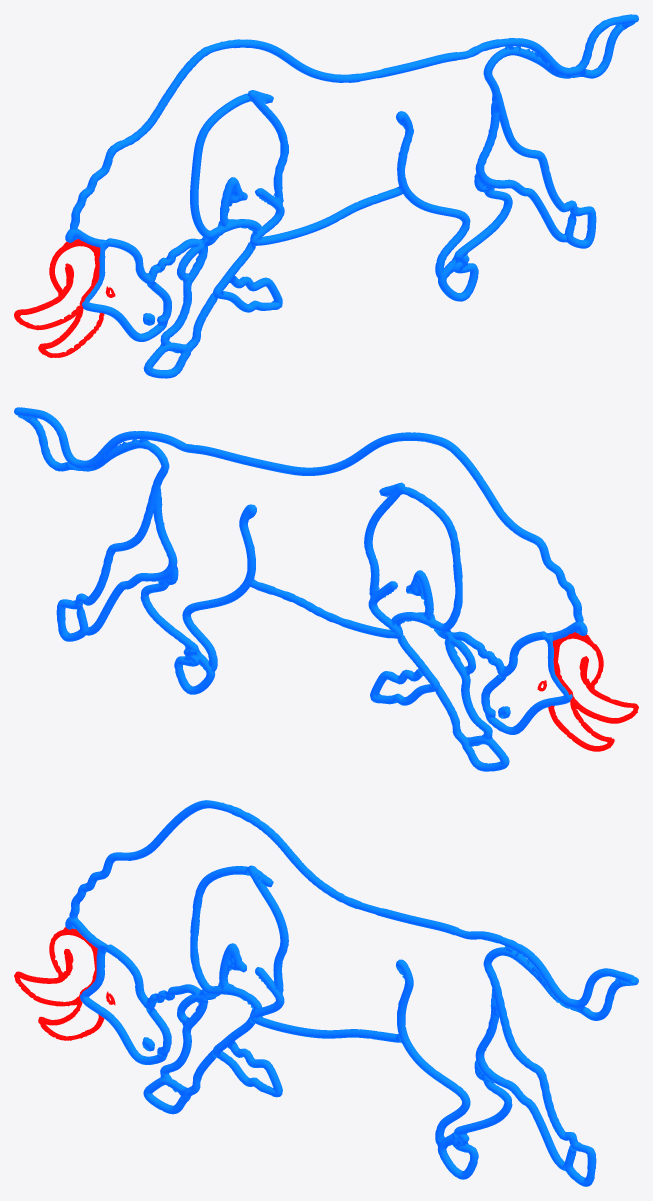
The model's file is neon_bull.glb.
The picture shows the model from 3 angles, top to bottom: view 1: azimuth 30°, elevation 25°; view 2: azimuth 150°, elevation 25°; view 3: azimuth 330°, elevation 25°; orthographic projection.
Visible parts, largest first — view 1: bull; view 2: bull; view 3: bull.
Part boxes in pixels (<box>): bull: <box>14,14,638,378</box>; bull: <box>14,407,638,771</box>; bull: <box>14,800,638,1186</box>.
Bounding box in the file's own units: 3 × 1.48 × 0.0358.
